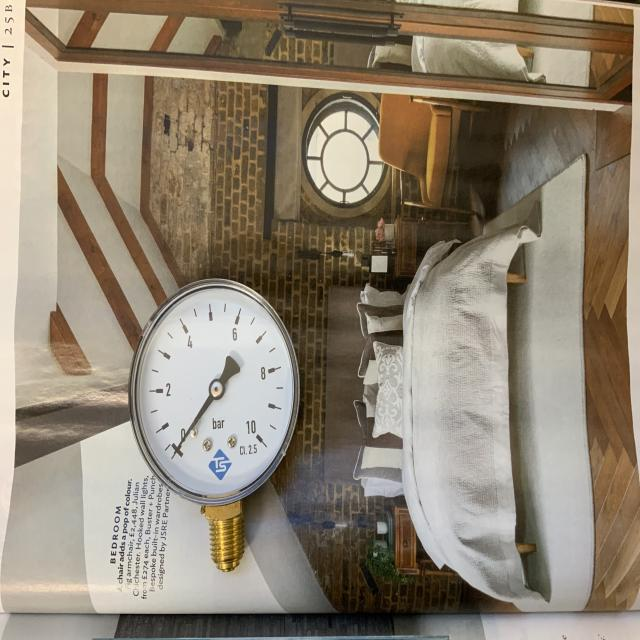gauge: (132, 282, 298, 498)
